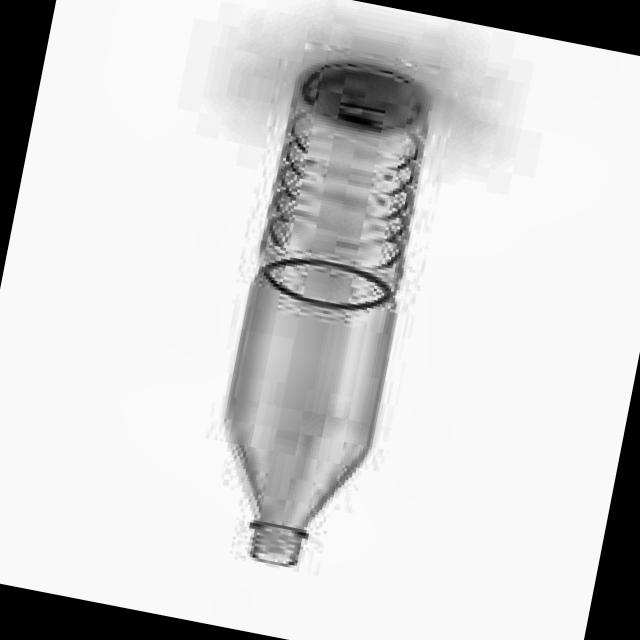plastic bottle: (226, 67, 427, 567)
